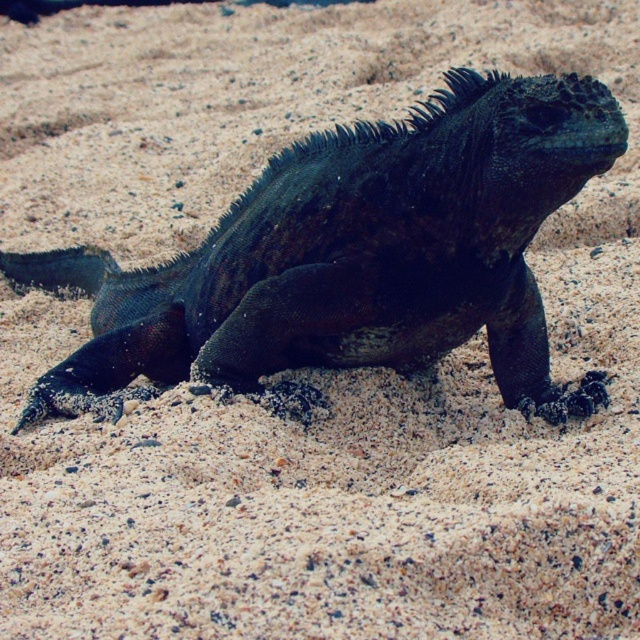Lizard: (0, 66, 630, 437)
